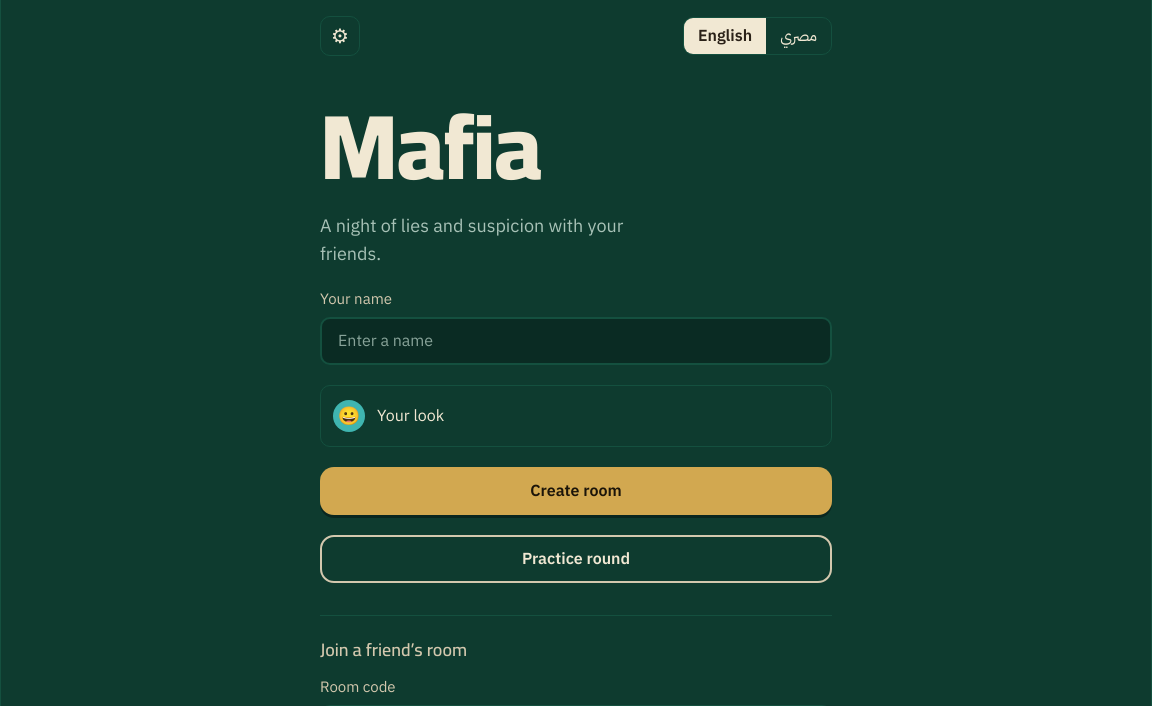
Test: home screen › asks for a name before creating a room
Click the button "Create room".
click(576, 491)  # box [320,467,832,515]
(page scrolled)
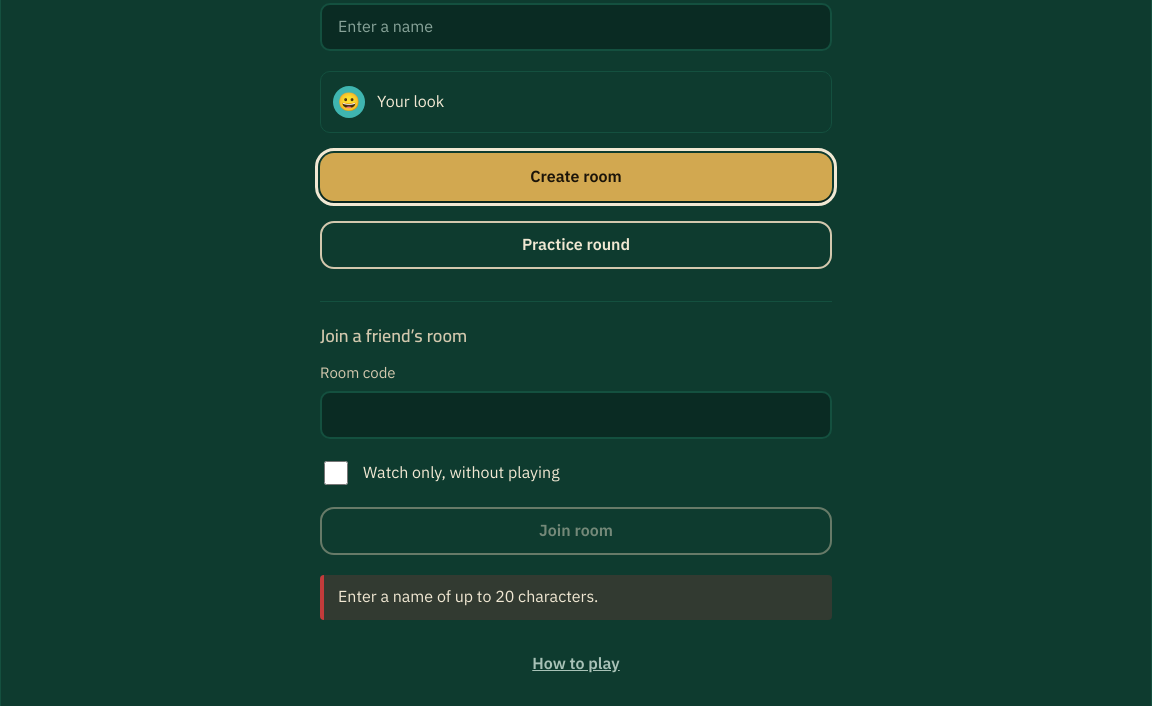
Check: the message shows "Enter a name", box [338,585,598,609]
